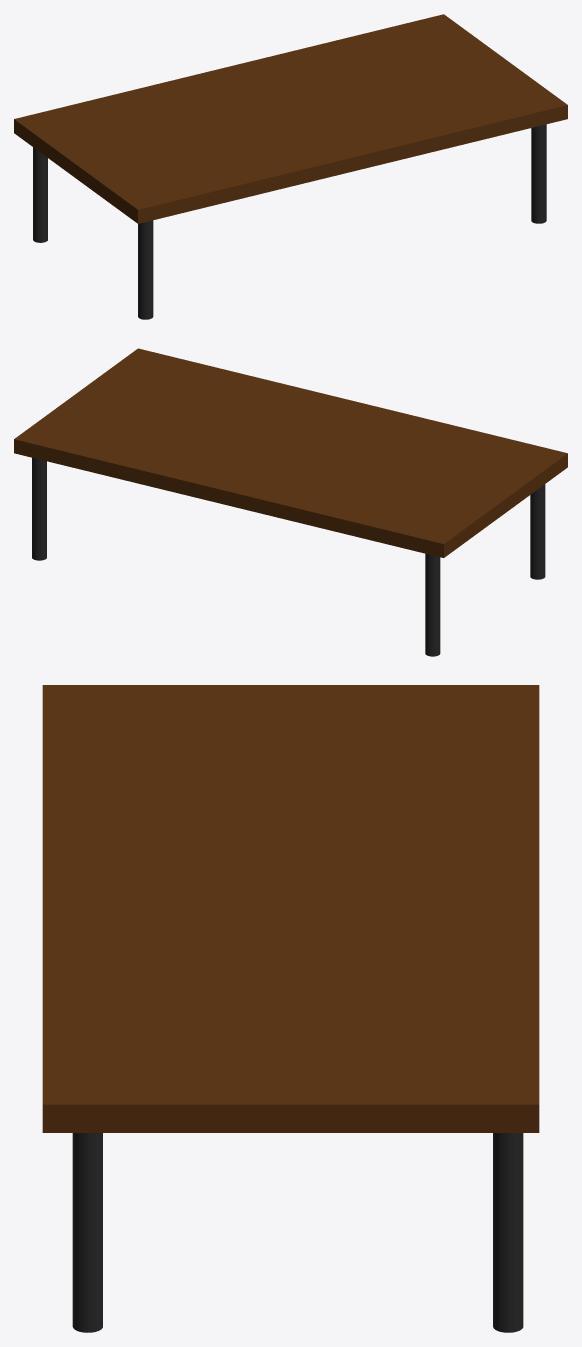
File: desk.glb
3 views of the same model, one above another, from view 1: azimuth 30°, elevation 25°; view 2: azimuth 150°, elevation 25°; view 3: azimuth 270°, elevation 25° (orthographic). The views are drawn at different scales.
Parts seen in each view (by area): view 1: Cube, Cylinder.003, Cylinder.001, Cylinder.002; view 2: Cube, Cylinder.002, Cylinder.004, Cylinder.001; view 3: Cube, Cylinder.003, Cylinder.004.
Boxes of the visible parts, bbox=[...] form: Cube: bbox=[14, 14, 567, 223]; Cylinder.003: bbox=[531, 124, 546, 223]; Cylinder.001: bbox=[138, 220, 153, 319]; Cylinder.002: bbox=[33, 147, 47, 242]; Cube: bbox=[14, 348, 567, 557]; Cylinder.002: bbox=[425, 553, 440, 656]; Cylinder.004: bbox=[32, 457, 46, 560]; Cylinder.001: bbox=[530, 484, 545, 579]; Cube: bbox=[42, 685, 539, 1132]; Cylinder.003: bbox=[72, 1133, 102, 1332]; Cylinder.004: bbox=[493, 1133, 523, 1332].
Bounding box in the file's own units: 3.2 × 0.85 × 1.6.
